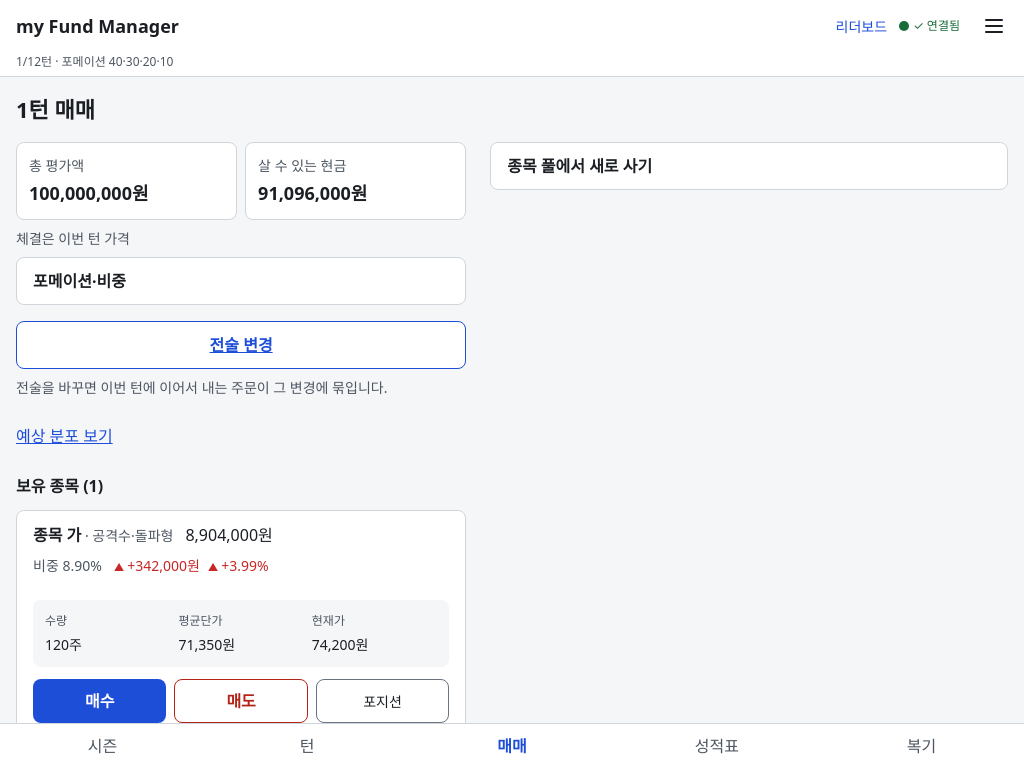
PositionSheet › checks the declared position, not the system judgement, when they differ
Click the button with aria-label "종목 가 포지션 변경": (382, 701) [316, 679, 449, 723]
(page scrolled)
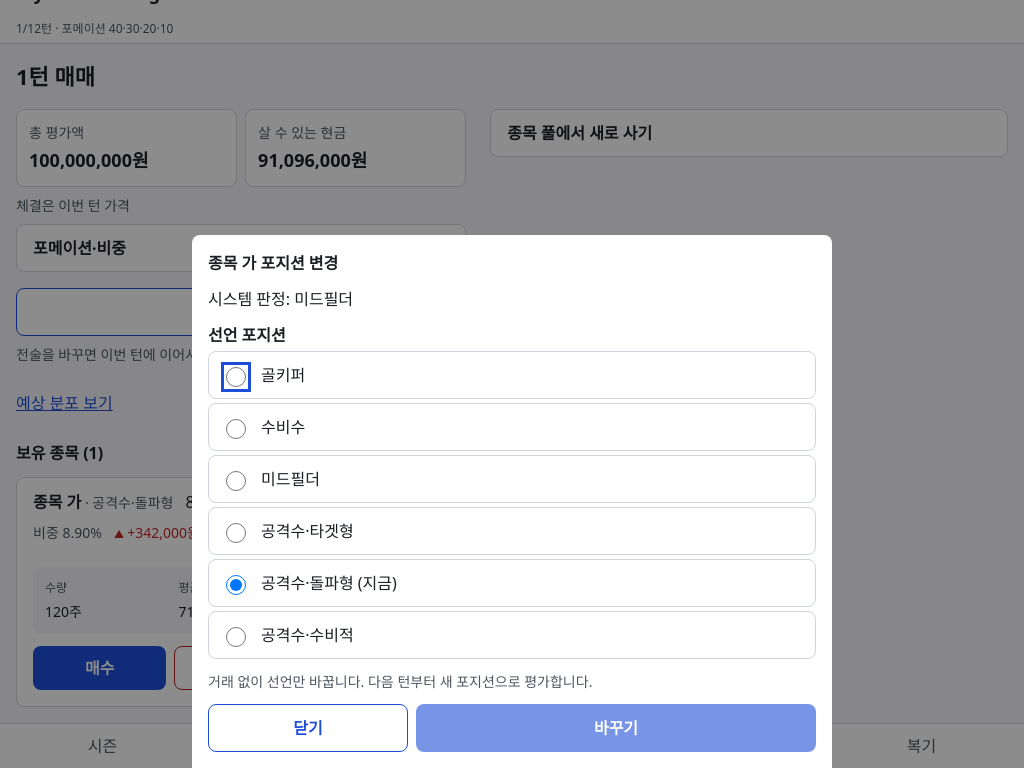
Expected: the radio button labelled "공격수·돌파형 (지금)" is checked, [226, 574, 246, 594]
Expected: the text "시스템 판정: 미드필더" is shown, [208, 288, 353, 310]
Expected: the button "바꾸기" is disabled, [416, 704, 816, 752]
